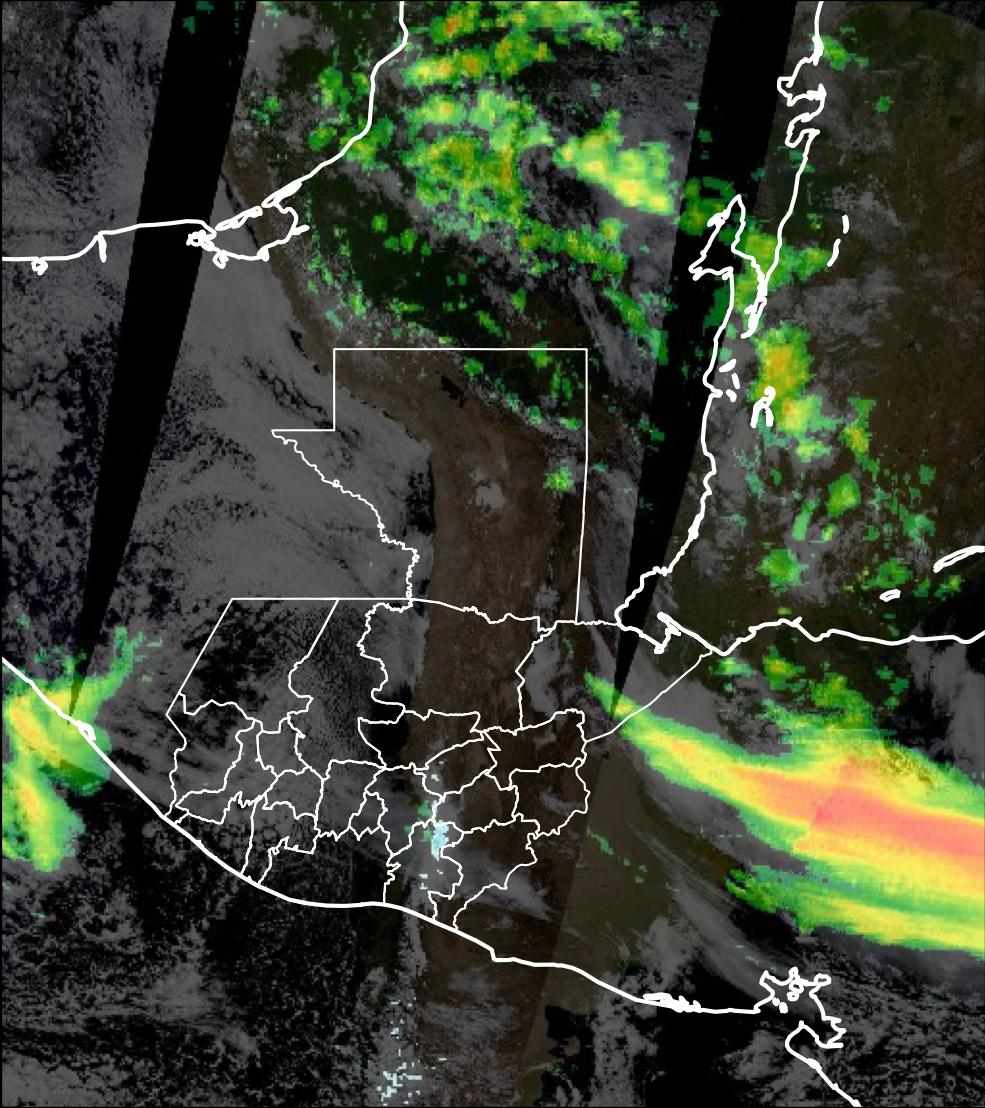precipitacion: (680, 727, 985, 901)
